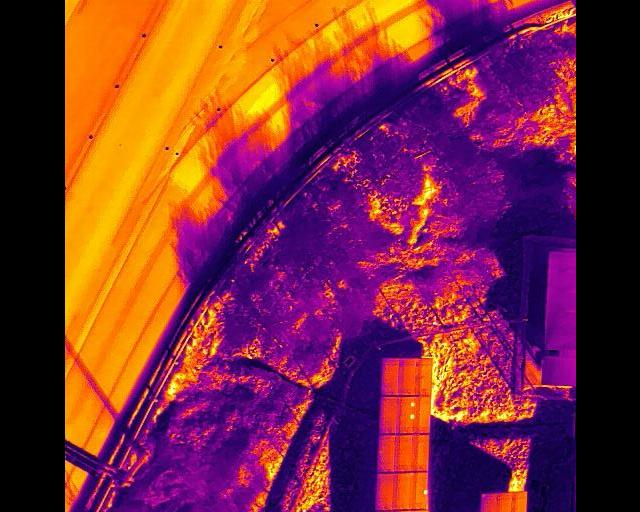Cell: (413, 472, 427, 510)
Cell-Multi: (396, 395, 414, 435)
No-Anomaly: (394, 473, 413, 512), (379, 395, 397, 435), (397, 358, 416, 395), (378, 434, 396, 473), (381, 358, 398, 396), (397, 433, 413, 473), (378, 472, 394, 511), (414, 359, 430, 396), (414, 395, 429, 434), (414, 434, 428, 472), (510, 492, 526, 512), (480, 494, 496, 512), (496, 492, 509, 512)
